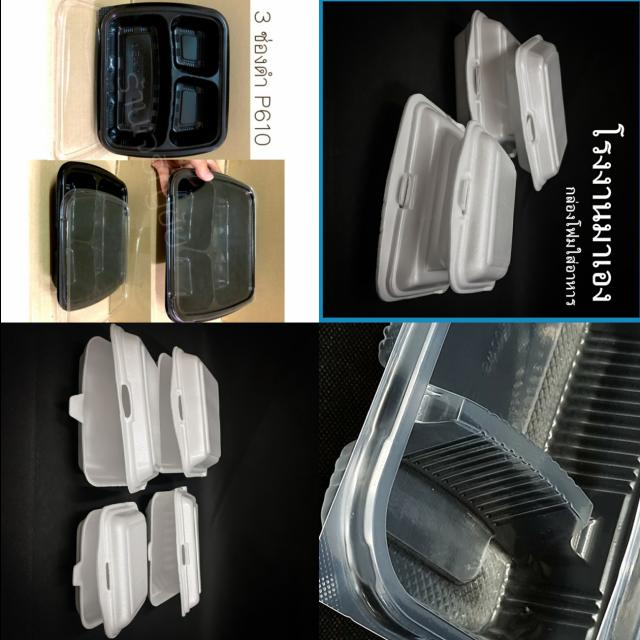plastik: (319, 323, 640, 640), (97, 3, 228, 157), (375, 94, 464, 301), (68, 324, 158, 493), (165, 169, 254, 321), (448, 121, 516, 293), (51, 161, 127, 311), (72, 502, 147, 639), (505, 36, 567, 190), (453, 10, 519, 151), (157, 347, 220, 477), (145, 486, 200, 616)
